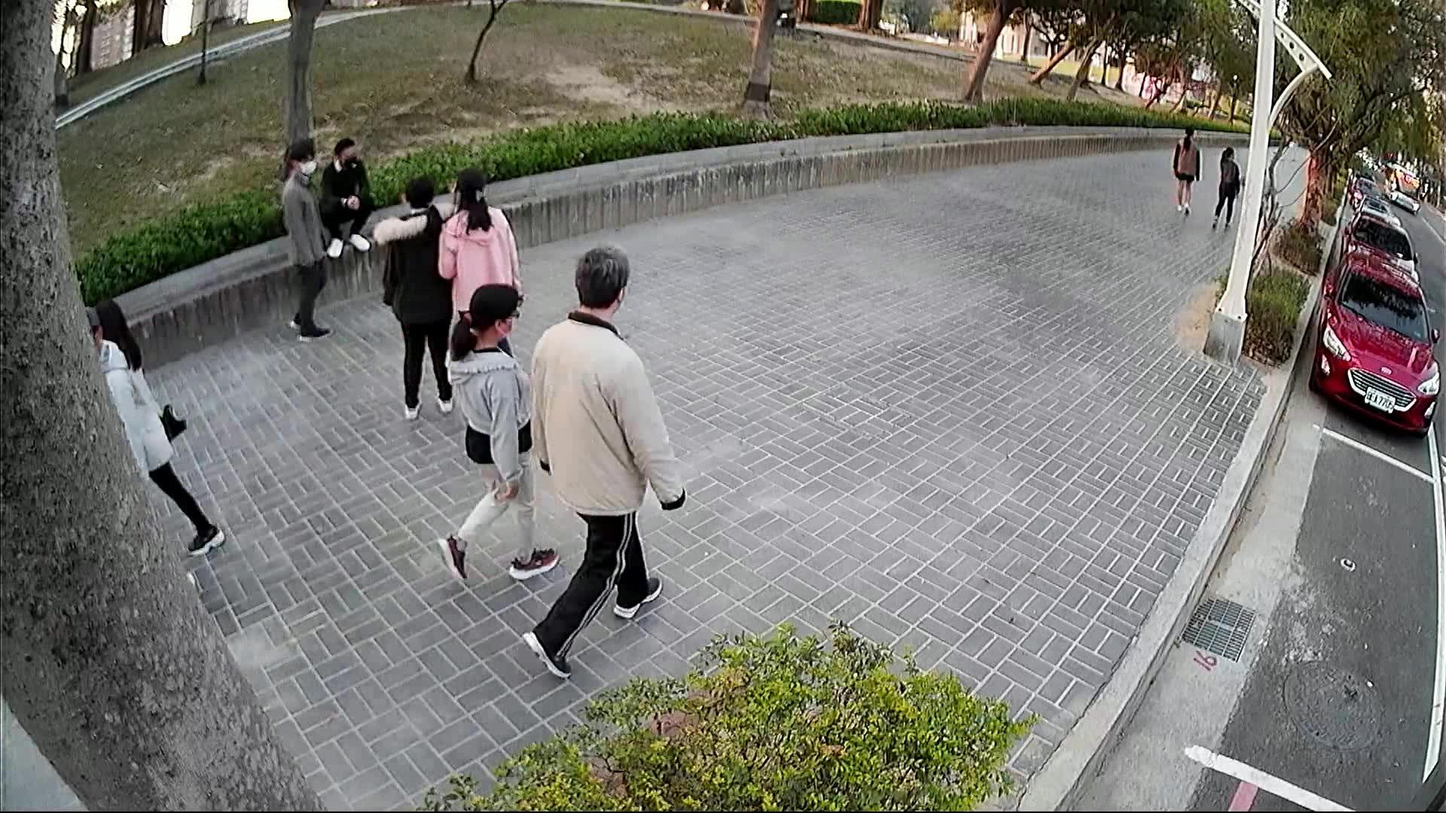person: (509, 235, 692, 684), (432, 273, 564, 598), (365, 169, 460, 422), (432, 157, 526, 359), (274, 129, 337, 348), (82, 300, 152, 492), (315, 128, 377, 261), (1169, 119, 1203, 213), (1206, 140, 1239, 233)
